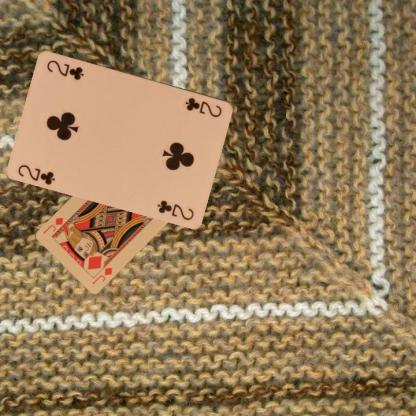2c: (16, 161, 56, 186), (182, 95, 224, 118)
Jd: (89, 264, 114, 286)
